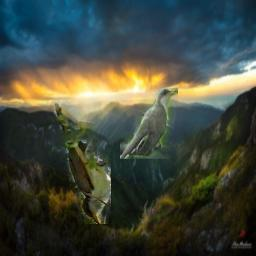Cuckoo: (54, 103, 111, 224), (120, 88, 178, 159)
